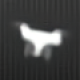plane: (13, 19, 70, 61)
